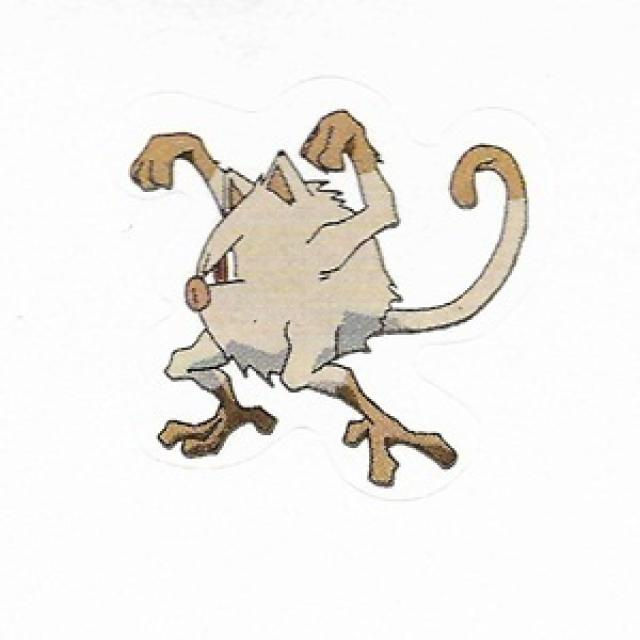Mankey: (126, 118, 463, 490)
